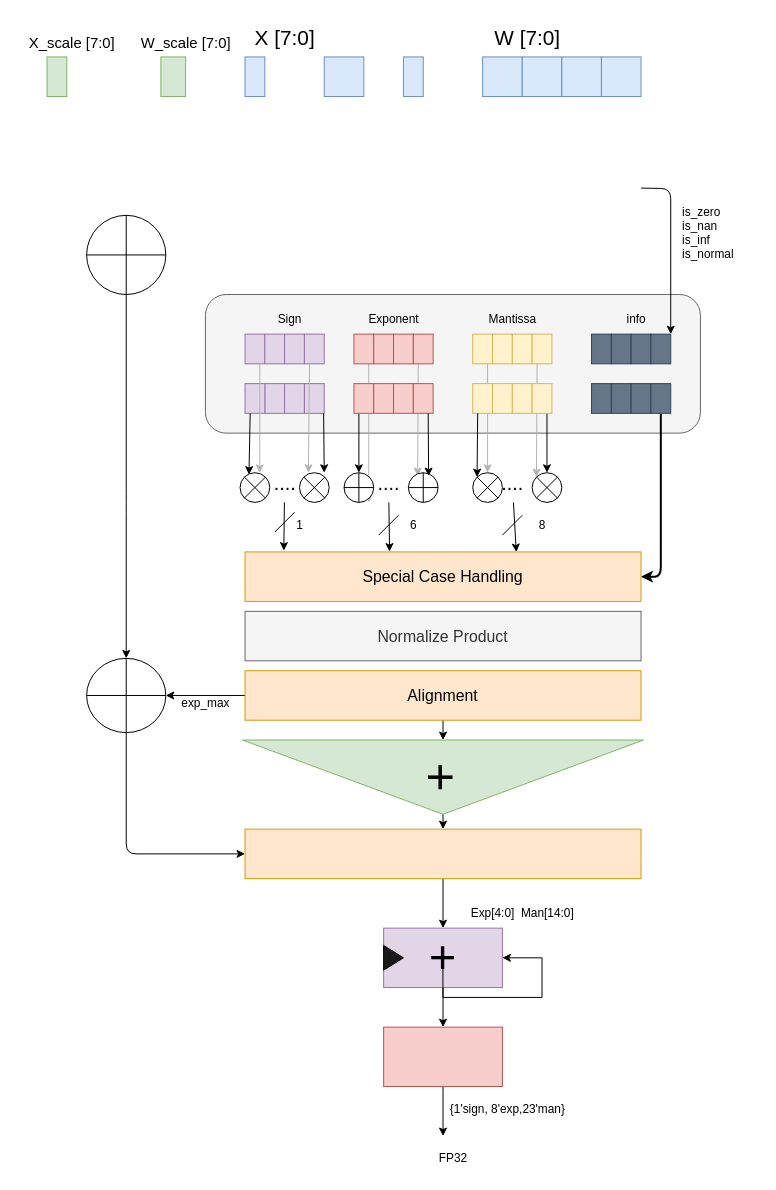
Image size: 776x1190. Some labels were removed from this diagram. The centre of each missing label's shape, as x and y in pixels:
FXP2FP32: point 442,1056
LZD + Shift: point 442,853
